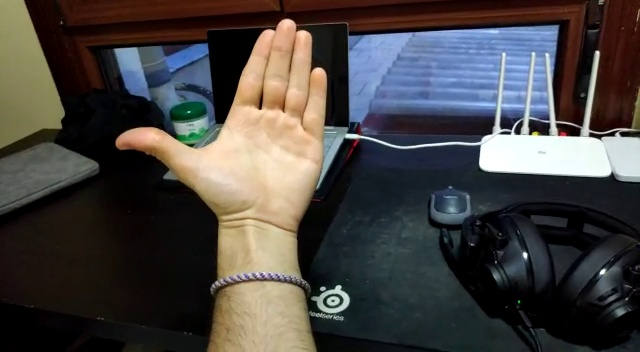Palm: (111, 16, 330, 244)
